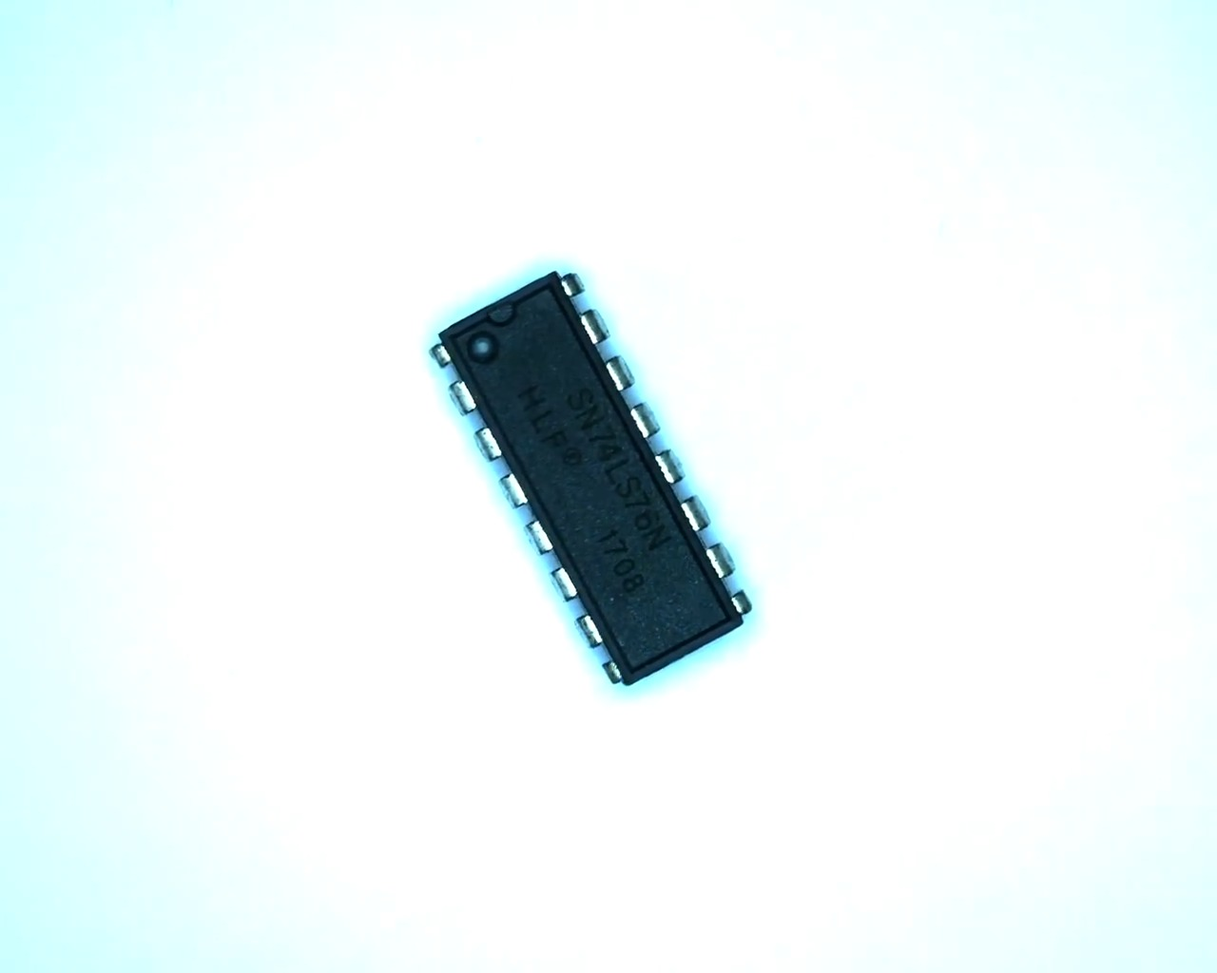IC: (415, 256, 774, 705)
notch: (481, 295, 523, 333)
